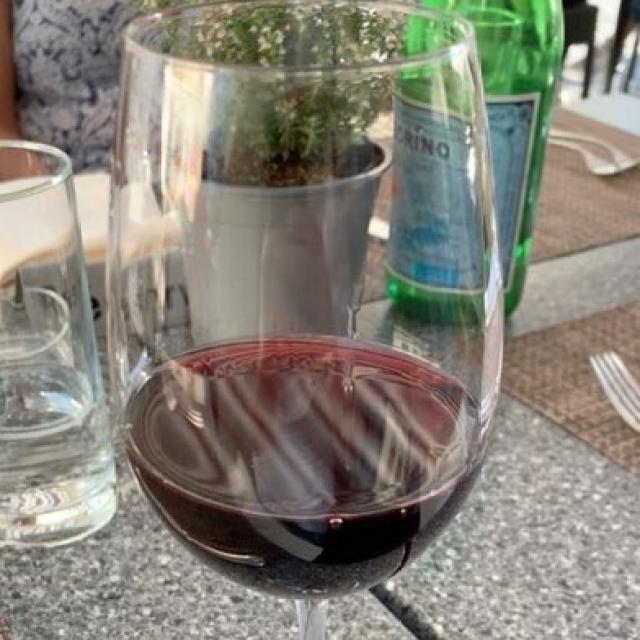wine: (130, 318, 474, 569)
